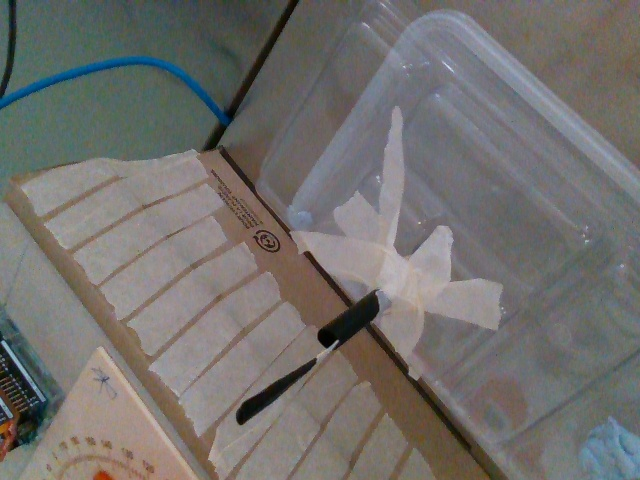test_strip: (238, 338, 336, 427)
